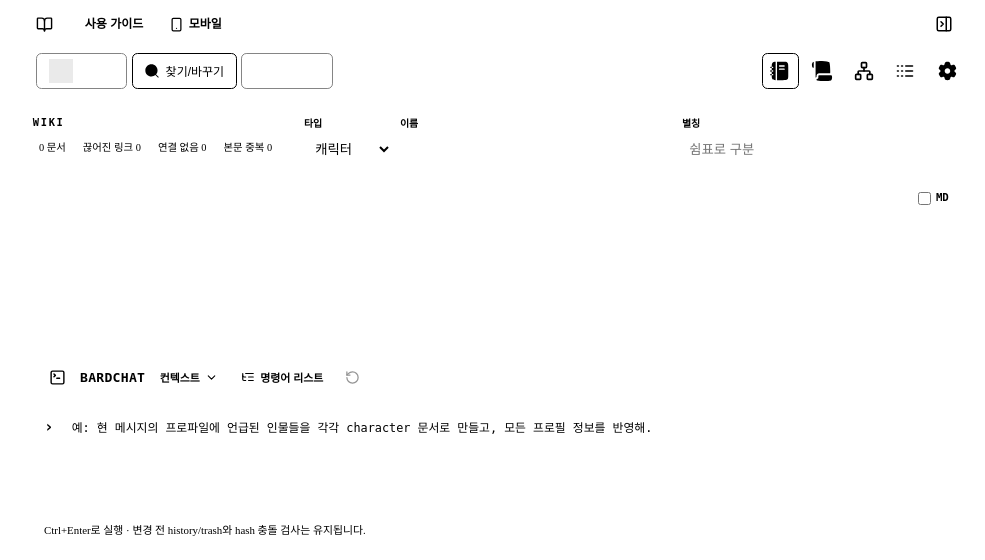
Test: RisuBardMemoryWiki › keeps documents and the direct command terminal together while logs use a separate view
Expected: the element showing "WIKI 0 문서 끊어진 링크 0 연결 없음 0 본문 중복 0 타입 이름 별칭 MD" is shown, [20, 105, 968, 333]
Expected: the element that starts with "BARDCHAT" is shown, [32, 355, 956, 544]
Click the button named "로그".
click(905, 71)  # box [886, 53, 924, 89]
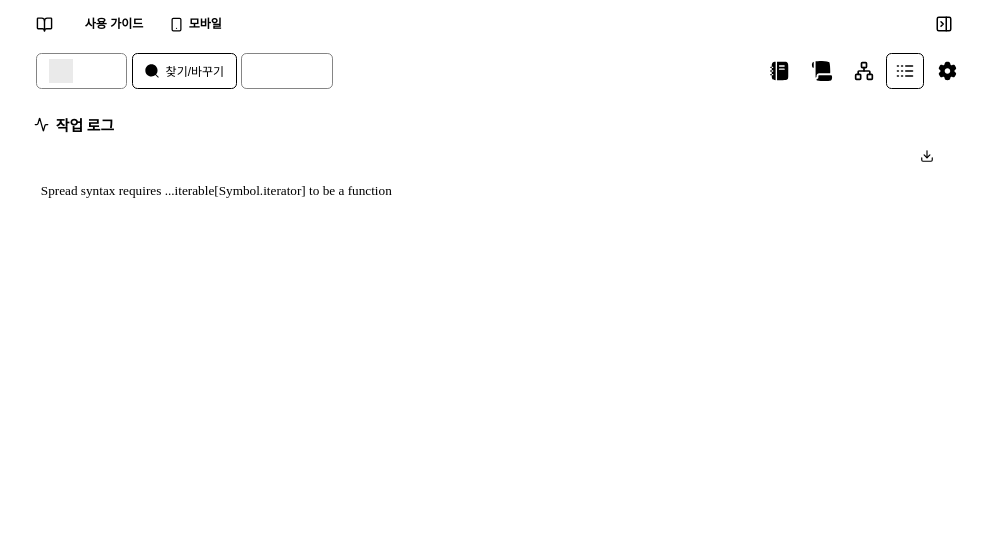
Expected: the element that starts with "작업 로그" is shown, [20, 105, 953, 226]
